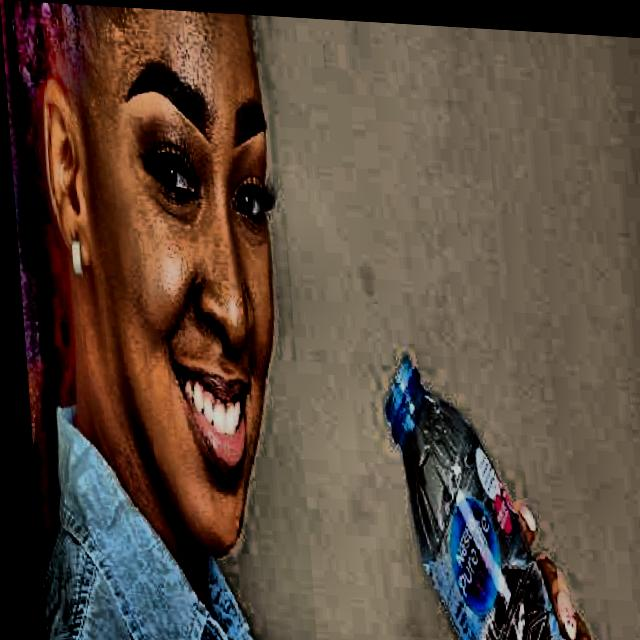Bottles: (362, 339, 597, 640)
